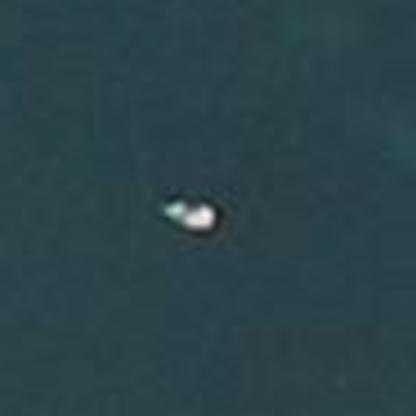ship: (150, 187, 225, 240)
